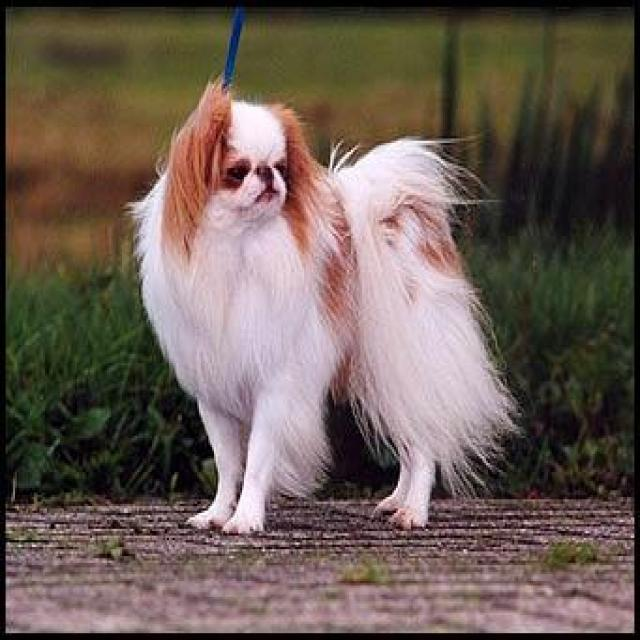husky: (124, 82, 529, 540)
